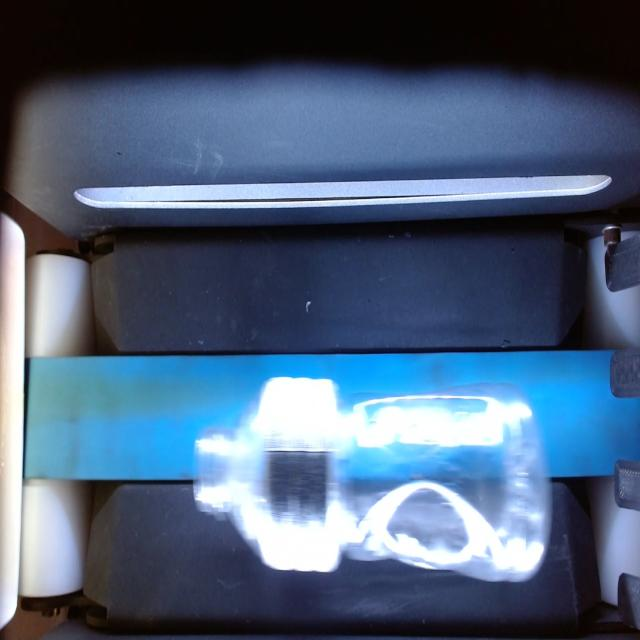bottom: (346, 380, 554, 584)
label: (257, 371, 345, 575)
neck: (192, 399, 264, 553)
